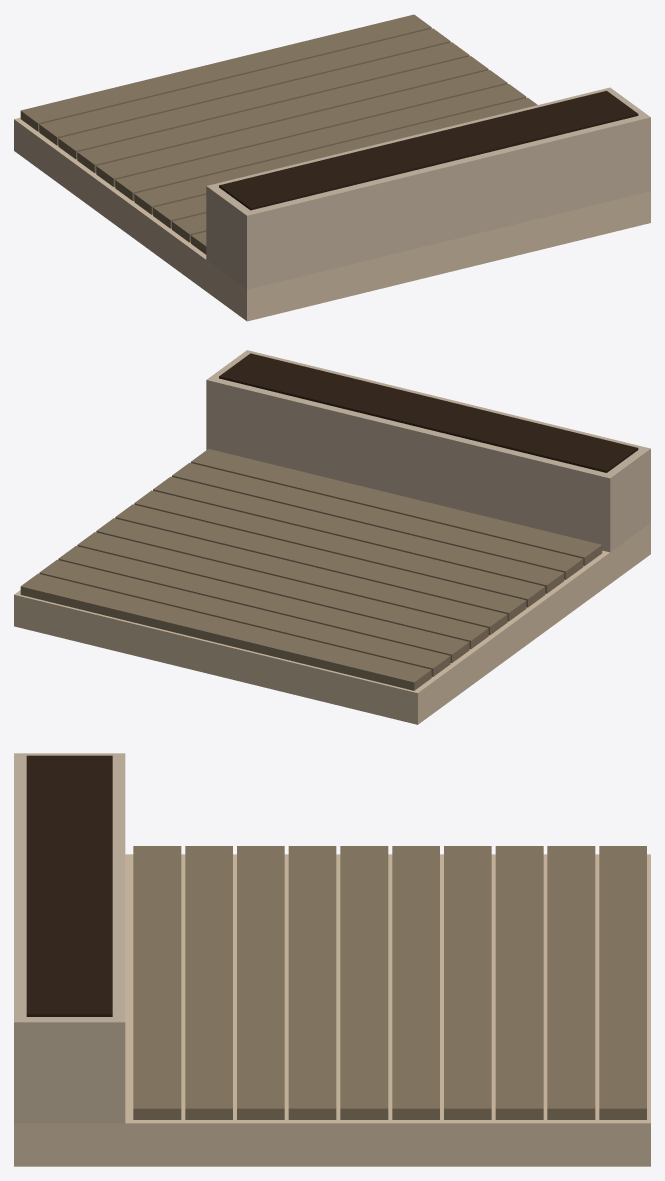
Rendered from city_garden_deck.glb.
3 renders of one model, top to bottom at view 1: azimuth 30°, elevation 25°; view 2: azimuth 150°, elevation 25°; view 3: azimuth 270°, elevation 25°, orthographic. The views are drawn at different scales.
Parts seen in each view (by area): view 1: CityGardenDeck_Edge, CityGardenDeck_Slab, CityGardenDeck_EdgeSoil, CityGardenDeck_Board4, CityGardenDeck_Board6, CityGardenDeck_Board7, CityGardenDeck_Board9, CityGardenDeck_Board5, CityGardenDeck_Board8, CityGardenDeck_Board3, CityGardenDeck_Board2, CityGardenDeck_Board1; view 2: CityGardenDeck_Edge, CityGardenDeck_Slab, CityGardenDeck_EdgeSoil, CityGardenDeck_Board9, CityGardenDeck_Board6, CityGardenDeck_Board8, CityGardenDeck_Board1, CityGardenDeck_Board3, CityGardenDeck_Board5, CityGardenDeck_Board2, CityGardenDeck_Board4, CityGardenDeck_Board7 (+1 smaller); view 3: CityGardenDeck_Slab, CityGardenDeck_EdgeSoil, CityGardenDeck_Edge, CityGardenDeck_Board0, CityGardenDeck_Board3, CityGardenDeck_Board4, CityGardenDeck_Board7, CityGardenDeck_Board8, CityGardenDeck_Board1, CityGardenDeck_Board2, CityGardenDeck_Board5, CityGardenDeck_Board6 (+1 smaller).
Boxes of the visible parts, bbox=[...] form: CityGardenDeck_Edge: bbox=[206, 87, 650, 289]; CityGardenDeck_Slab: bbox=[14, 117, 650, 321]; CityGardenDeck_EdgeSoil: bbox=[219, 90, 638, 210]; CityGardenDeck_Board4: bbox=[115, 84, 526, 200]; CityGardenDeck_Board6: bbox=[77, 56, 488, 173]; CityGardenDeck_Board7: bbox=[58, 42, 469, 159]; CityGardenDeck_Board9: bbox=[20, 14, 431, 131]; CityGardenDeck_Board5: bbox=[96, 70, 507, 186]; CityGardenDeck_Board8: bbox=[39, 28, 450, 145]; CityGardenDeck_Board3: bbox=[134, 97, 537, 214]; CityGardenDeck_Board2: bbox=[153, 194, 206, 228]; CityGardenDeck_Board1: bbox=[172, 213, 206, 242]; CityGardenDeck_Edge: bbox=[206, 350, 650, 552]; CityGardenDeck_Slab: bbox=[14, 523, 650, 724]; CityGardenDeck_EdgeSoil: bbox=[219, 353, 638, 472]; CityGardenDeck_Board9: bbox=[20, 573, 431, 690]; CityGardenDeck_Board6: bbox=[77, 532, 488, 649]; CityGardenDeck_Board8: bbox=[39, 560, 450, 676]; CityGardenDeck_Board1: bbox=[172, 462, 583, 579]; CityGardenDeck_Board3: bbox=[134, 490, 545, 607]; CityGardenDeck_Board5: bbox=[96, 518, 507, 635]; CityGardenDeck_Board2: bbox=[153, 476, 564, 593]; CityGardenDeck_Board4: bbox=[115, 504, 526, 621]; CityGardenDeck_Board7: bbox=[58, 546, 469, 662]; CityGardenDeck_Slab: bbox=[14, 854, 650, 1166]; CityGardenDeck_EdgeSoil: bbox=[26, 755, 112, 1016]; CityGardenDeck_Edge: bbox=[14, 753, 125, 1123]; CityGardenDeck_Board0: bbox=[133, 846, 181, 1119]; CityGardenDeck_Board3: bbox=[288, 846, 336, 1119]; CityGardenDeck_Board4: bbox=[340, 846, 388, 1119]; CityGardenDeck_Board7: bbox=[495, 846, 543, 1119]; CityGardenDeck_Board8: bbox=[547, 846, 595, 1119]; CityGardenDeck_Board1: bbox=[185, 846, 232, 1119]; CityGardenDeck_Board2: bbox=[237, 846, 284, 1119]; CityGardenDeck_Board5: bbox=[392, 846, 439, 1119]; CityGardenDeck_Board6: bbox=[444, 846, 491, 1119].
Bounding box in the file's own units: 4 × 1.02 × 4.
